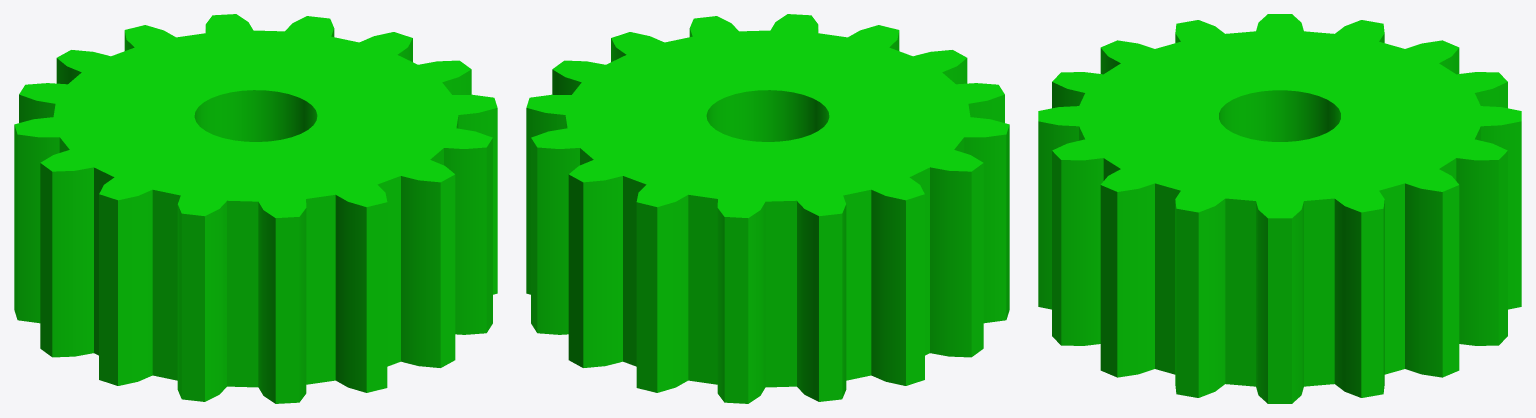
Rendered from template.gltf.
3 renders of one model, left to right at view 1: azimuth 30°, elevation 25°; view 2: azimuth 150°, elevation 25°; view 3: azimuth 270°, elevation 25°, orthographic.
Visible parts, largest first — view 1: pGear1; view 2: pGear1; view 3: pGear1.
Part boxes in pixels (bbox=[...]): pGear1: bbox=[14, 14, 497, 403]; pGear1: bbox=[526, 14, 1009, 403]; pGear1: bbox=[1038, 14, 1521, 403].
Bounding box in the file's own units: 2.36 × 1 × 2.36.
